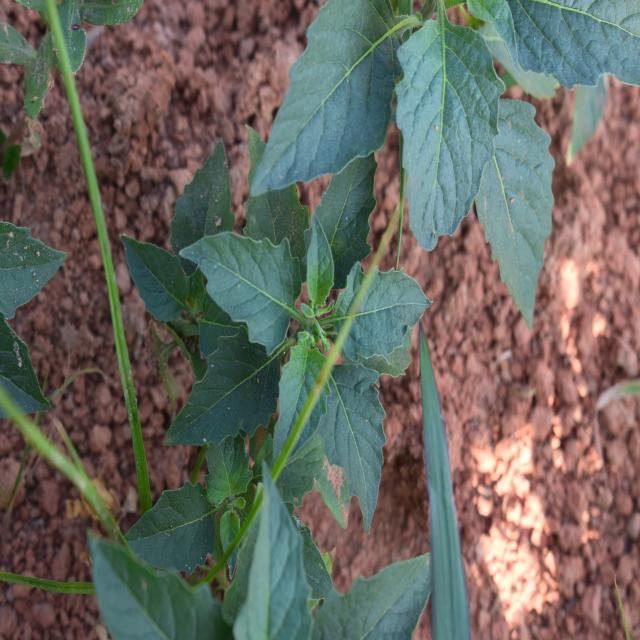Black_nightshade: (138, 143, 460, 523), (331, 0, 614, 302)
